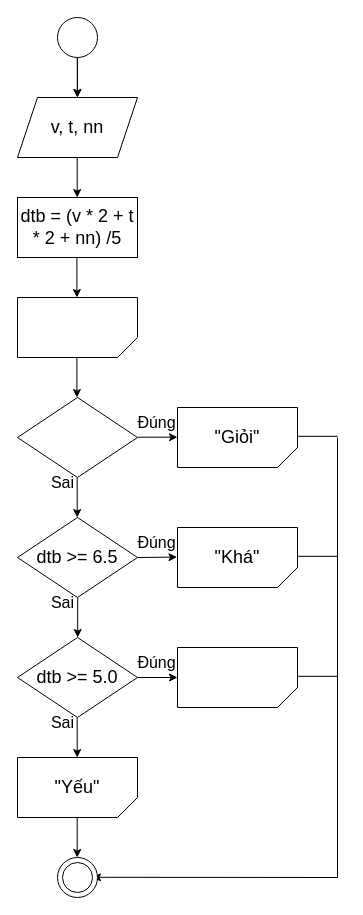
Some shapes in this 363 by 915 pixel diagram are drawn without their labels. The shapes that lost their labels are listed below. From the top down, each one's centre as x and y in pixels, then its label:
point 77,327: dtb
point 77,437: dtb >= 8.0
point 237,677: "Trung bình"
